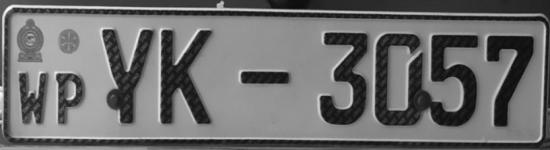-: (231, 61, 297, 96)
0: (371, 22, 428, 135)
3: (300, 22, 372, 132)
5: (429, 22, 484, 135)
7: (485, 25, 540, 139)
K: (155, 24, 220, 133)
P: (51, 66, 93, 133)
W: (11, 62, 51, 130)
Y: (96, 21, 155, 132)
